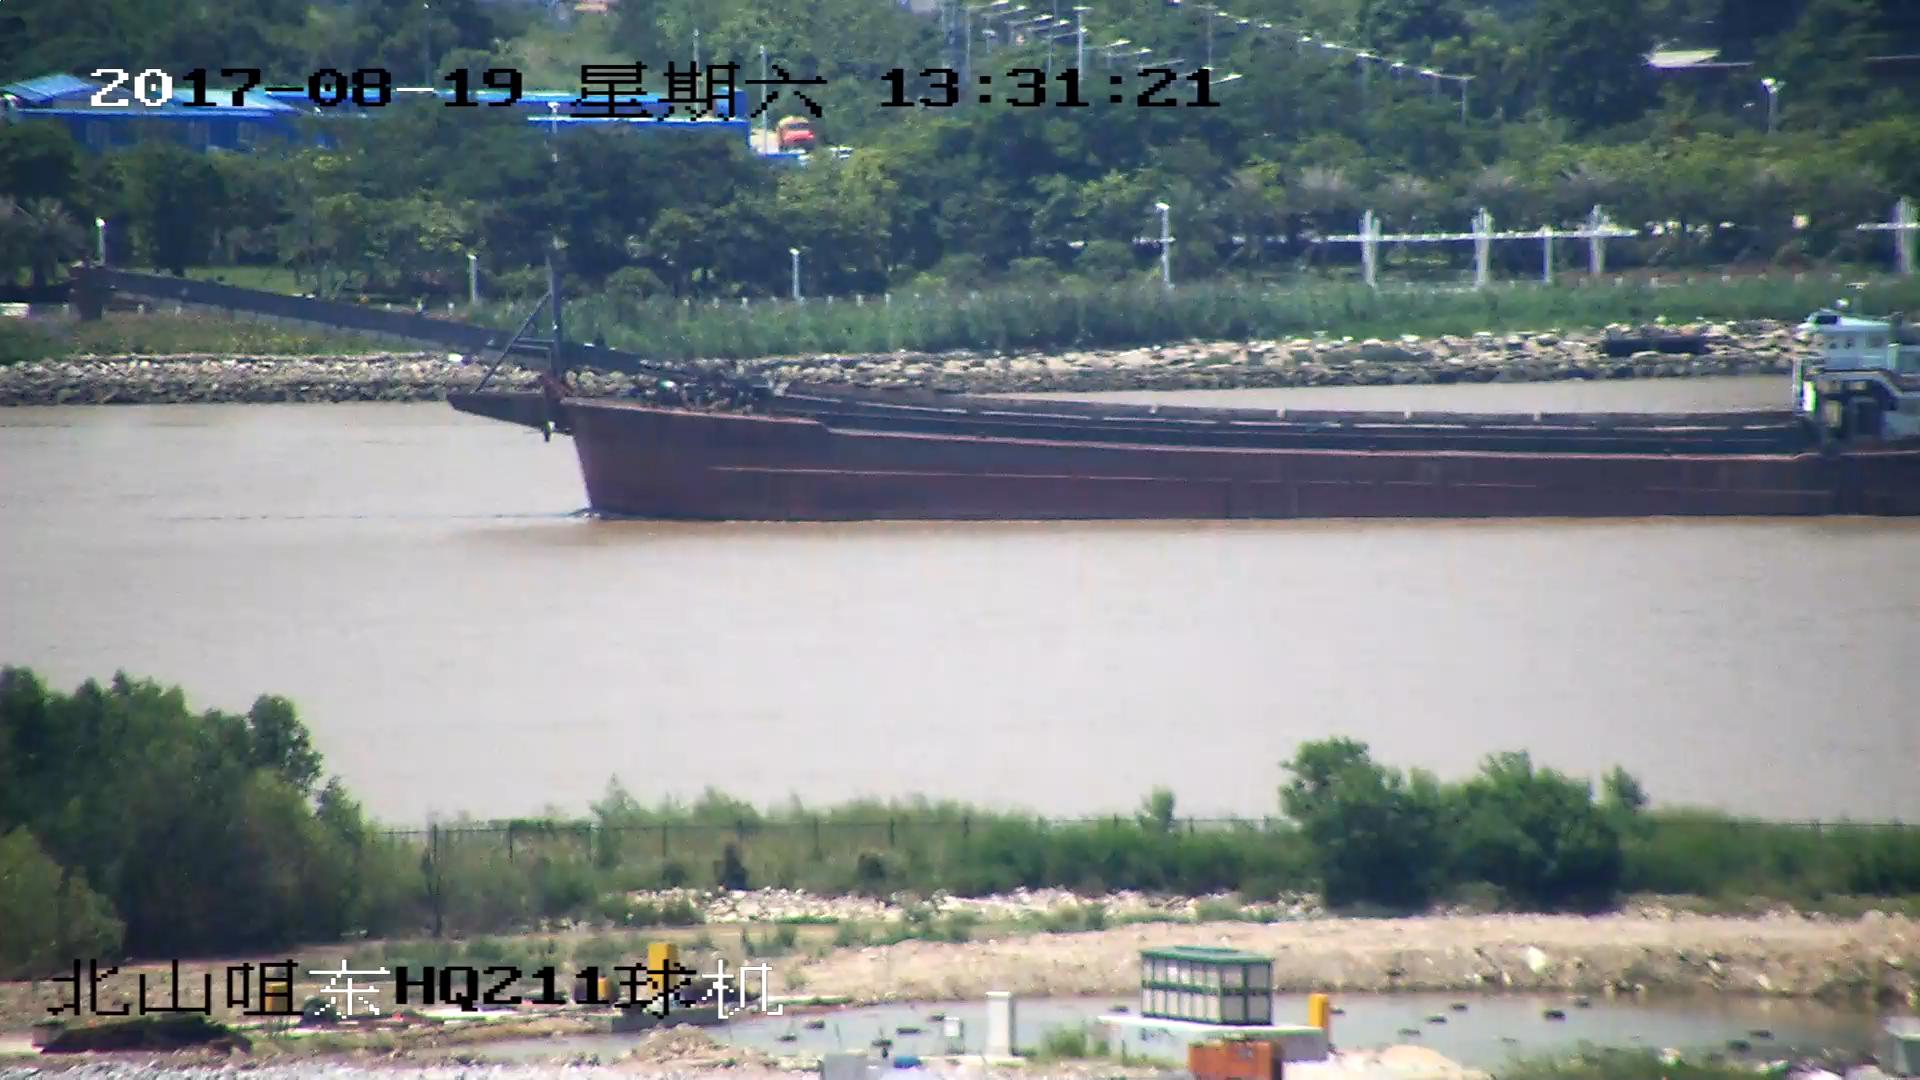bulk cargo carrier: (94, 257, 1920, 519)
